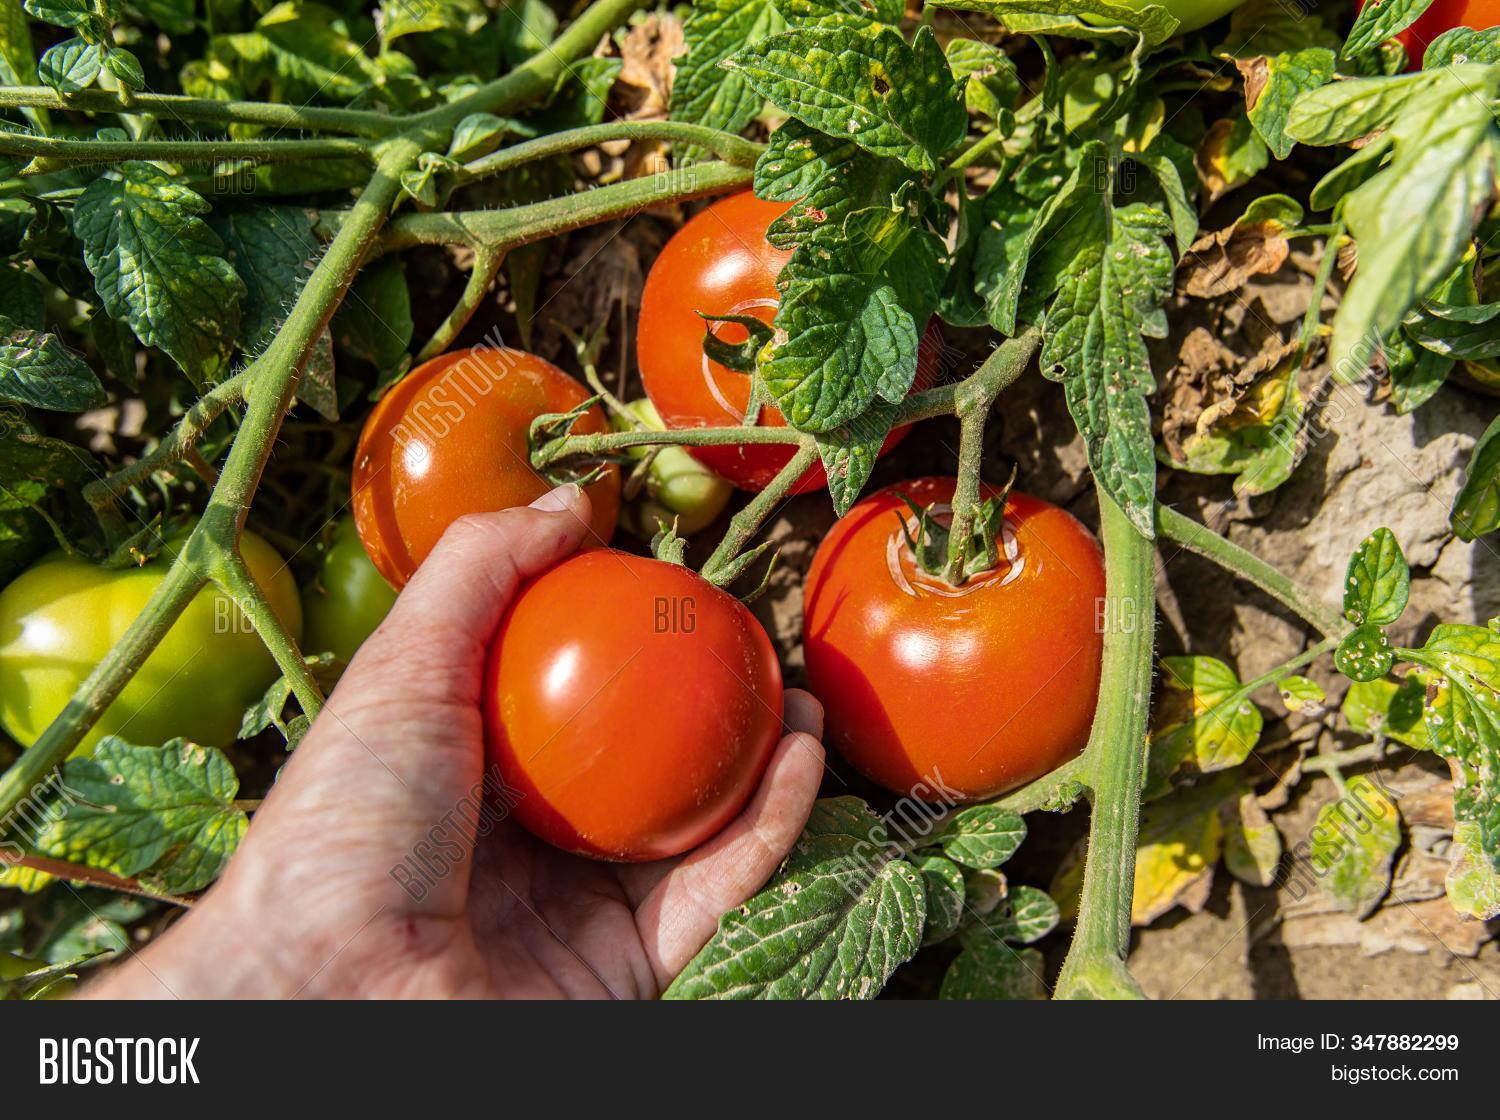healthy-tomato: (802, 428, 1112, 809), (594, 191, 961, 505), (486, 551, 787, 869), (352, 347, 612, 592)
